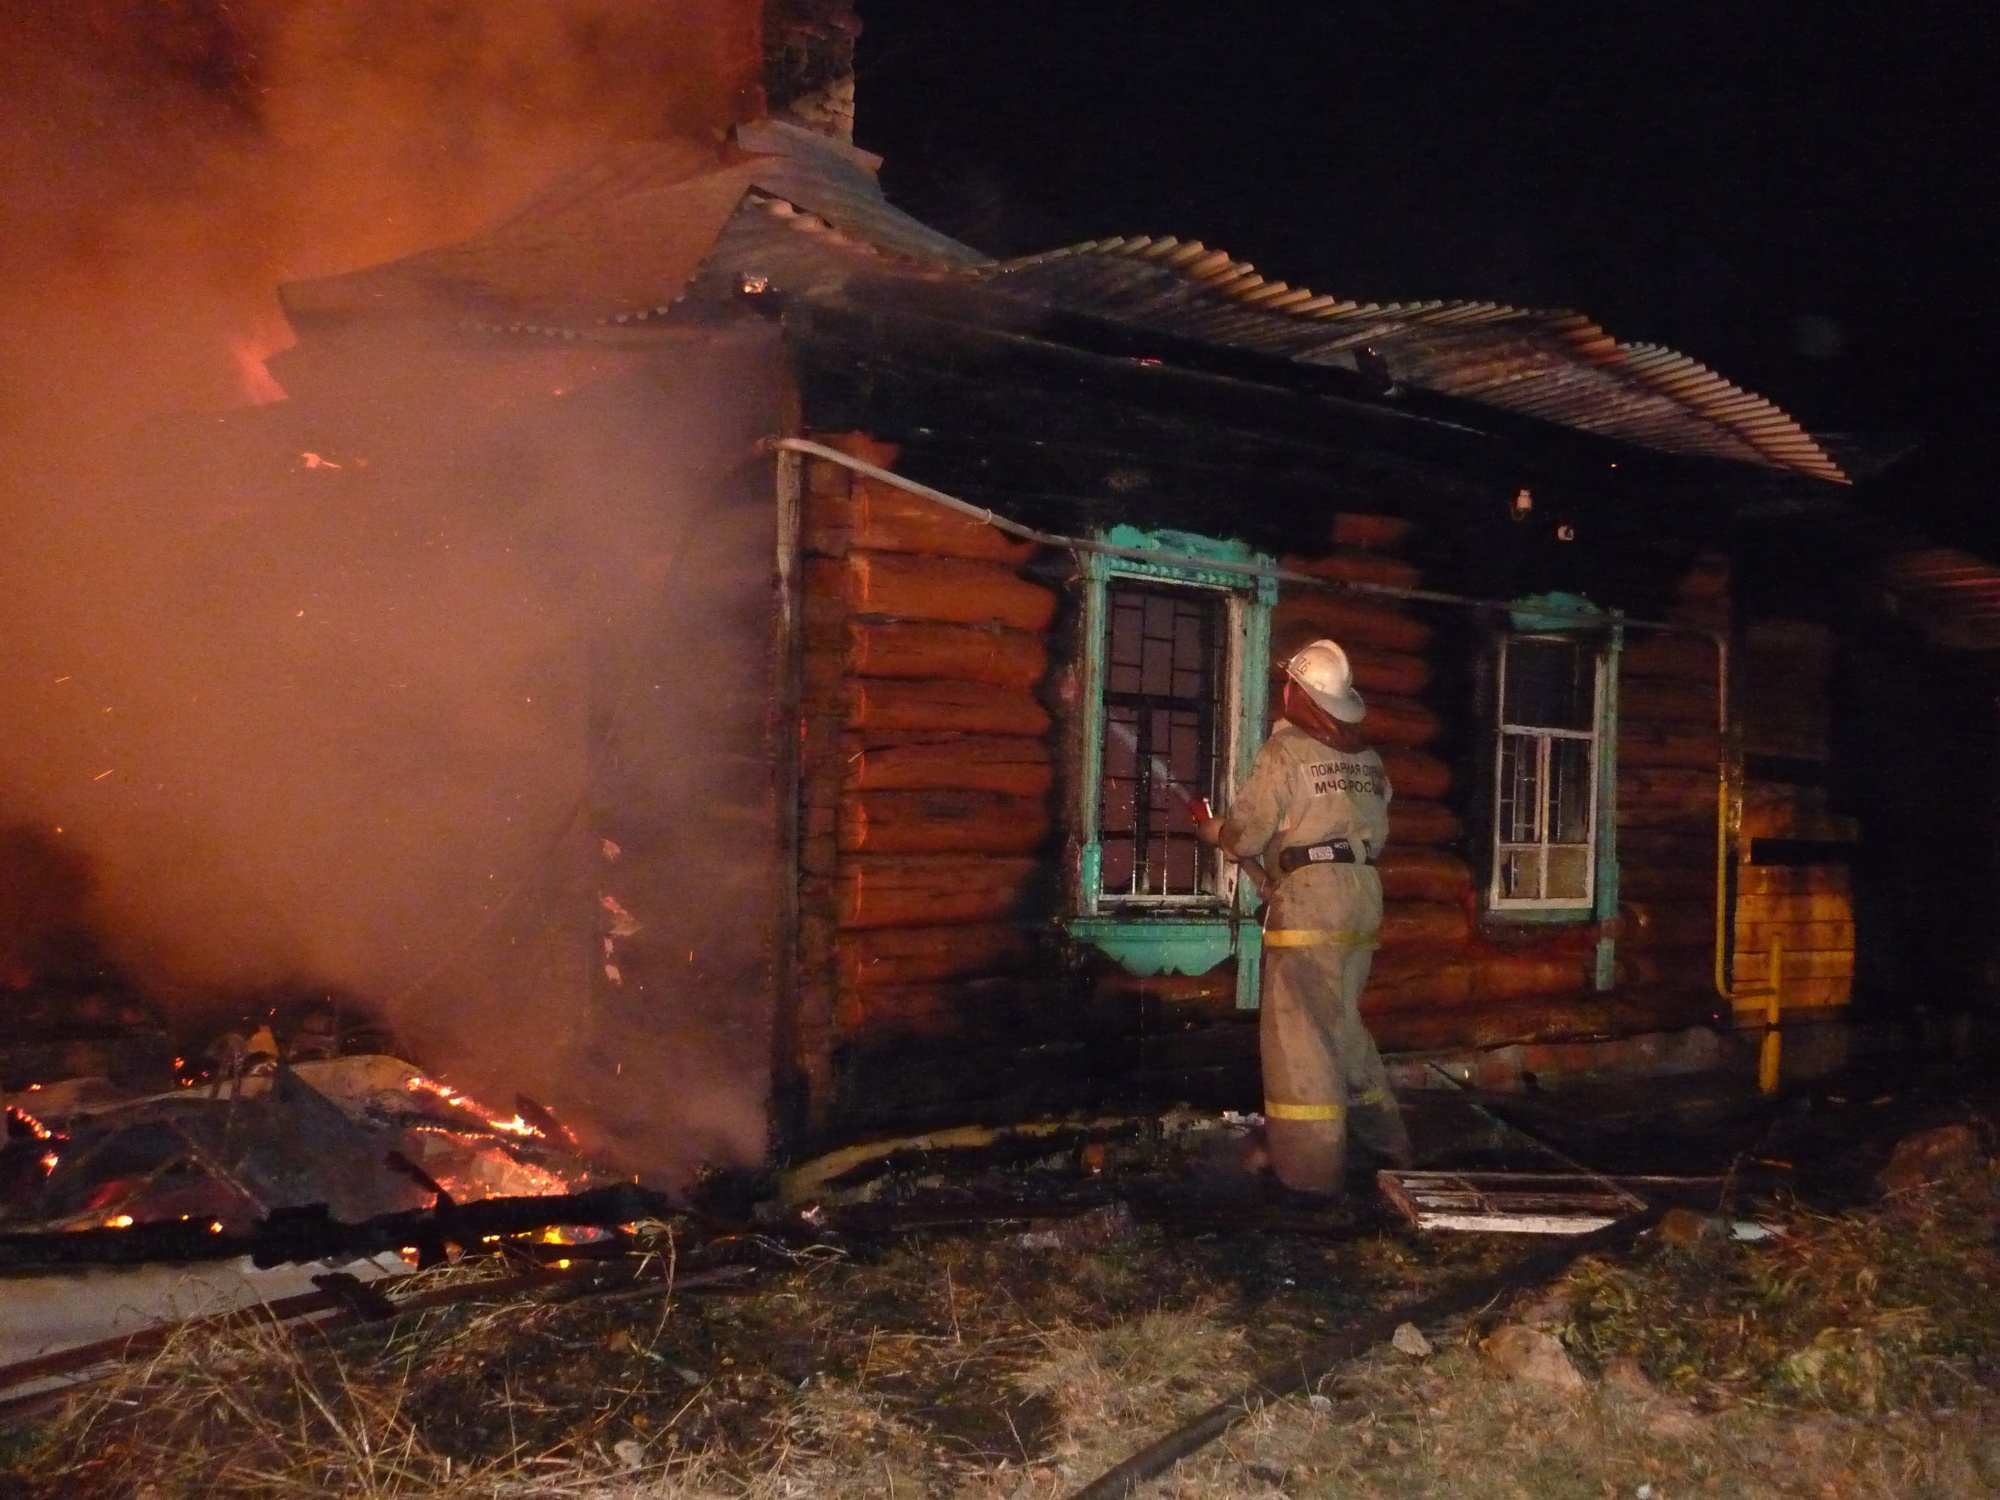fire: (24, 11, 857, 1243)
